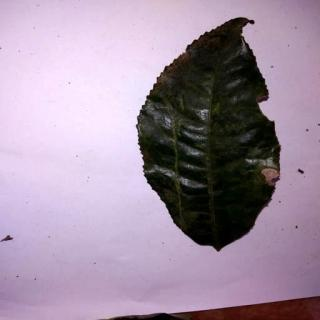Anthracnose: (137, 20, 281, 252)
